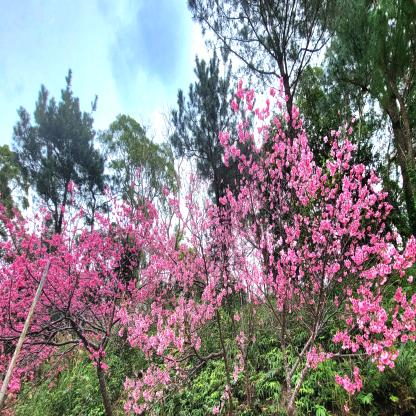KanhiSakura: (158, 76, 416, 416), (0, 159, 181, 416)
